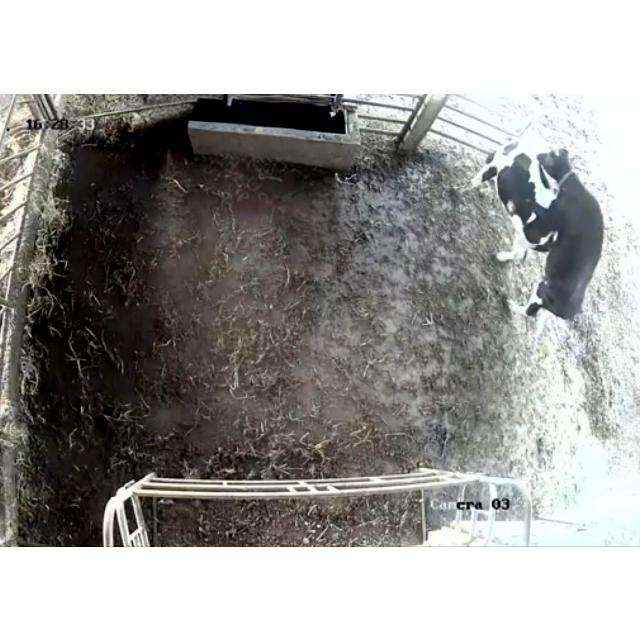ride: (506, 142, 612, 348)
